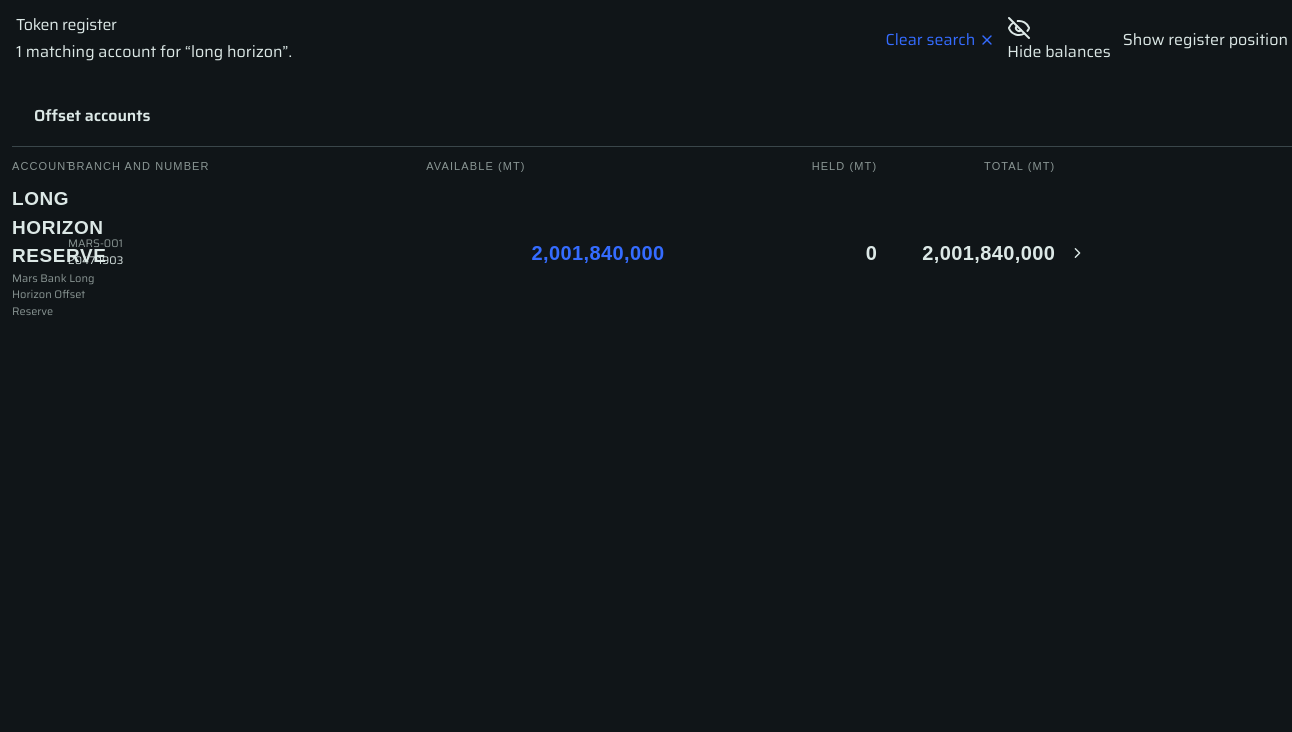
Test case: AccountsPage › tallies only the accounts the search leaves visible
The image size is (1292, 732).
Click the button "Show register position" at (1205, 40), box x1=1123 y1=28 x2=1288 y2=52
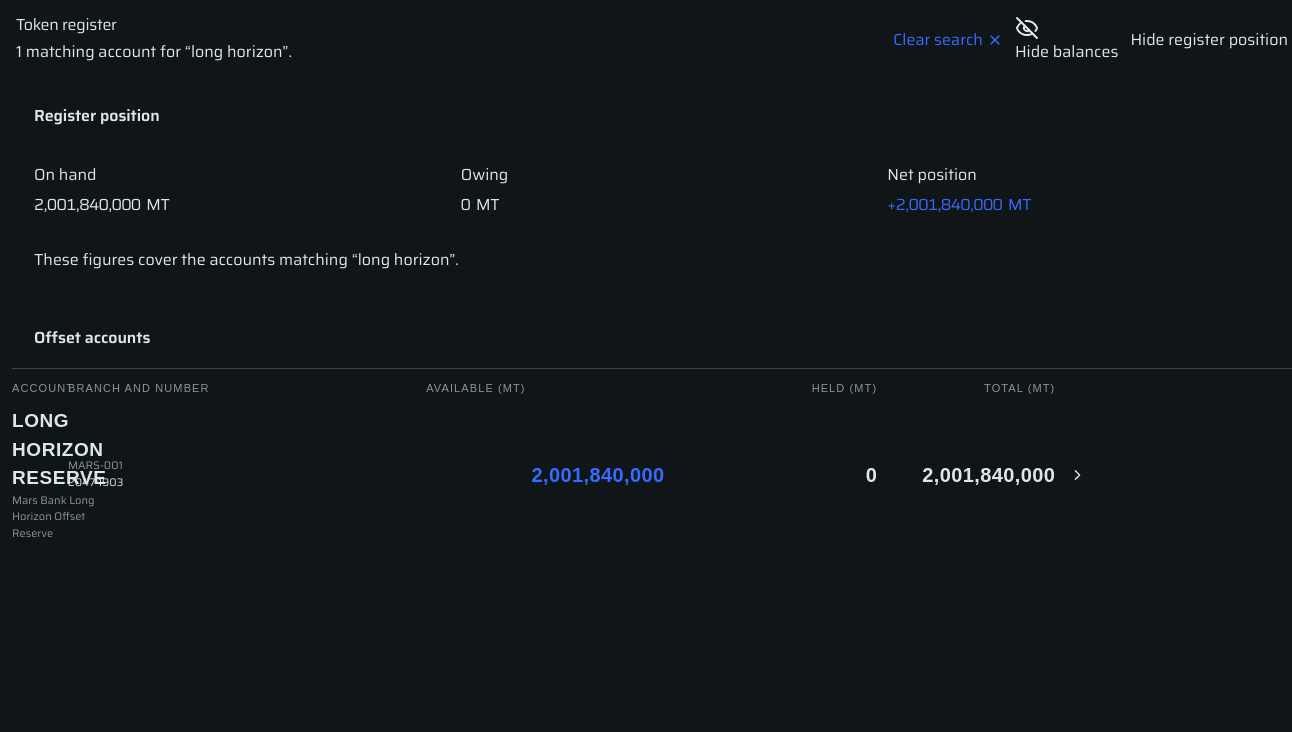
Expected: the text "On hand" shows "2,001,840,000", x1=34 y1=192 x2=141 y2=217
Expected: the text "Owing" shows "0", x1=461 y1=192 x2=470 y2=217
Expected: the text "Net position" shows "+2,001,840,000", x1=887 y1=192 x2=1002 y2=217
